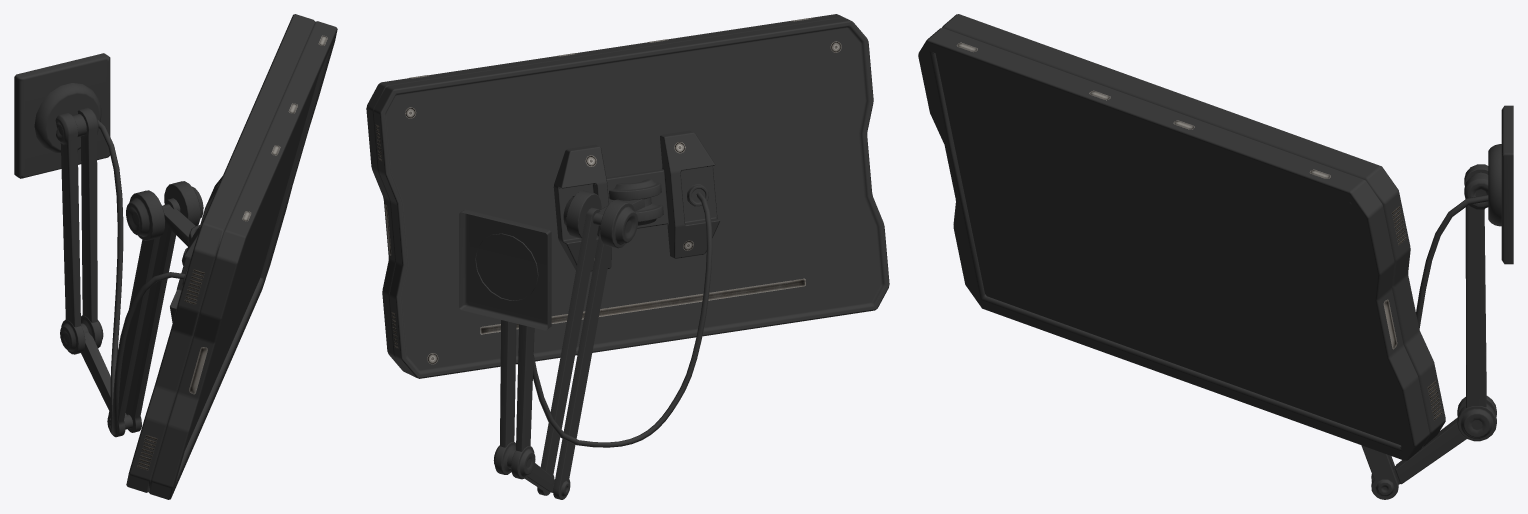
Rendered from SM_TV_Screen_01.FBX.
3 renders of one model, left to right at view 1: azimuth 30°, elevation 25°; view 2: azimuth 150°, elevation 25°; view 3: azimuth 270°, elevation 25°, orthographic. The views are drawn at different scales.
Parts seen in each view (by area): view 1: SM_TV_Screen_01_LOD0; view 2: SM_TV_Screen_01_LOD0; view 3: SM_TV_Screen_01_LOD0.
Boxes of the visible parts, bbox=[...] form: SM_TV_Screen_01_LOD0: bbox=[14, 14, 337, 499]; SM_TV_Screen_01_LOD0: bbox=[366, 14, 889, 499]; SM_TV_Screen_01_LOD0: bbox=[918, 14, 1513, 499].
Size of what is drawn, in the model's own units: 91.97 by 115 by 89.55.
